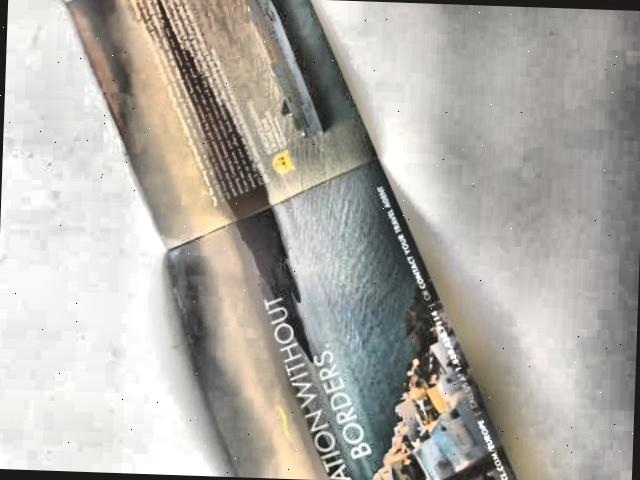Paper: (38, 0, 540, 480)
